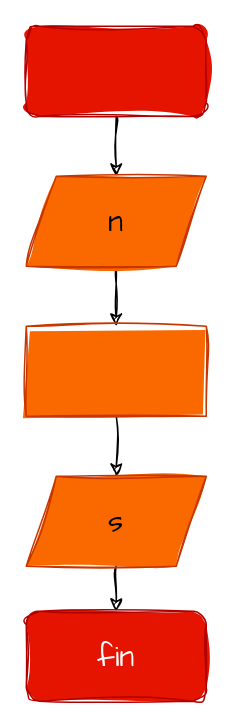
Some shapes in this 233 by 728 pixel diagram are drawn without their labels. Each missing label, with the centre of its shape:
inicio: (115,70)
s=n(n+1)/2: (115,370)
